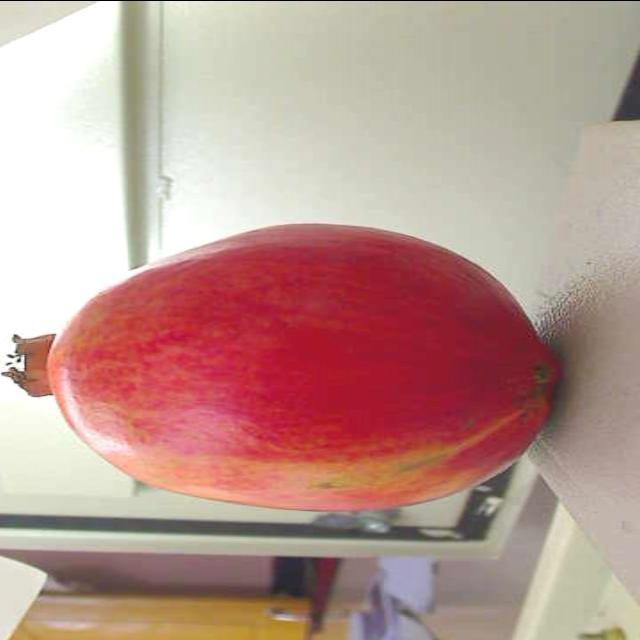pomegranate: (0, 207, 568, 530)
